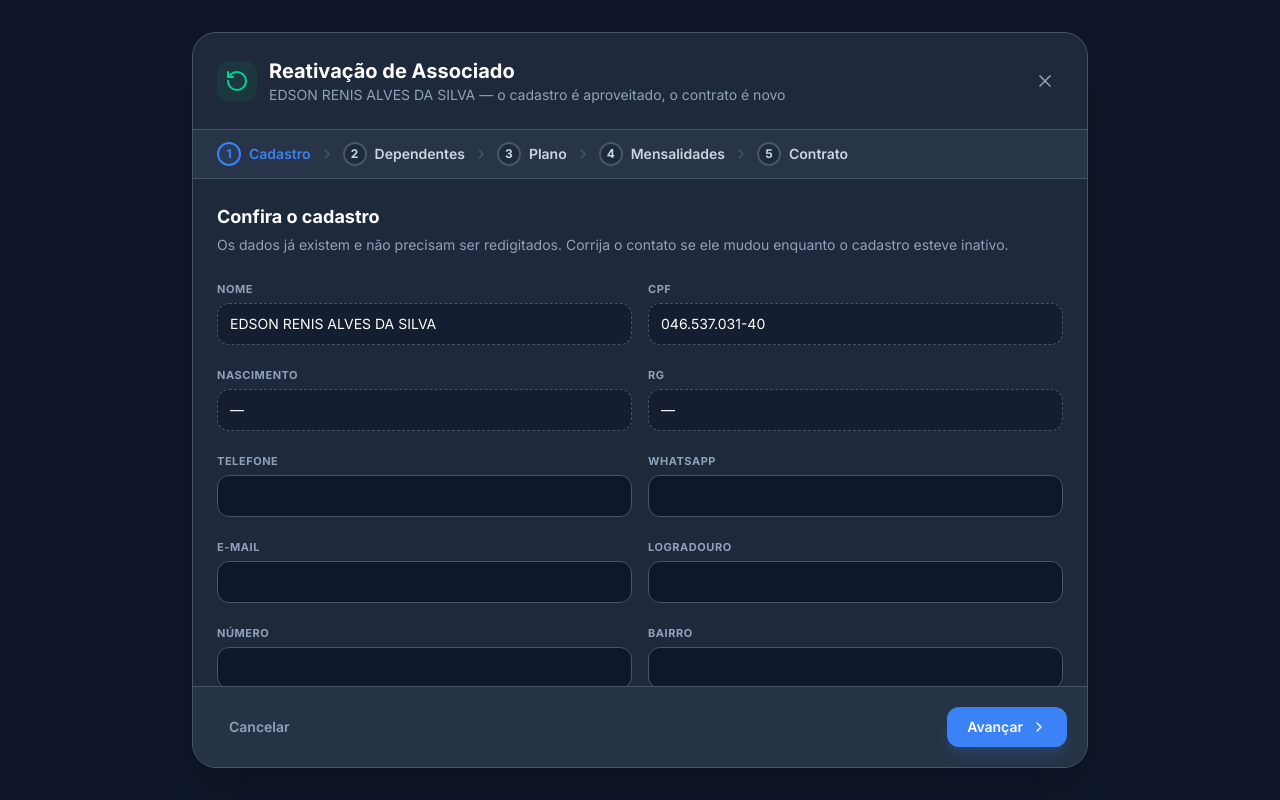
Test case: ReativacaoAssociadoWizard — etapa de dependentes › o incluído agora pode sair da lista; o já cadastrado, não
This screenshot has width=1280, height=800.
Click the button "Avançar": (1007, 727) [947,707,1067,747]
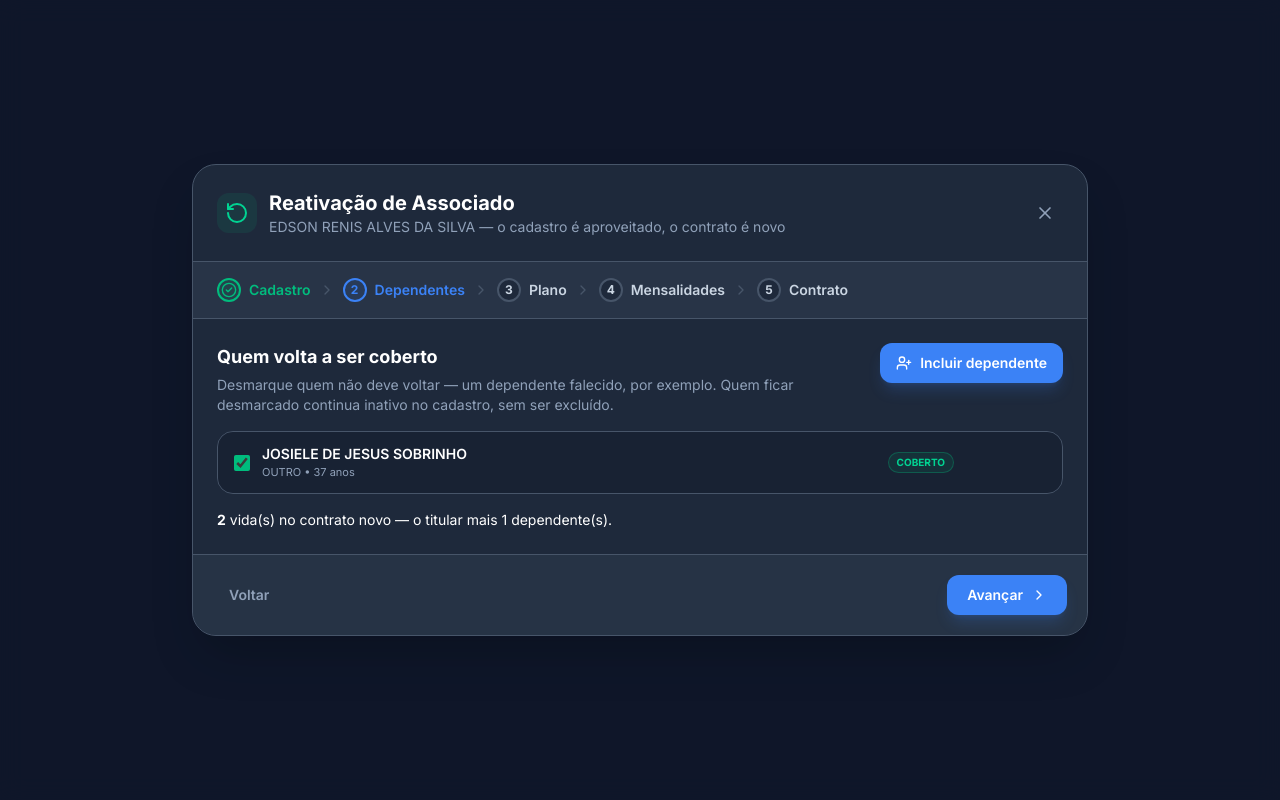
Click the button "Incluir dependente": (972, 363) [880,343,1063,383]
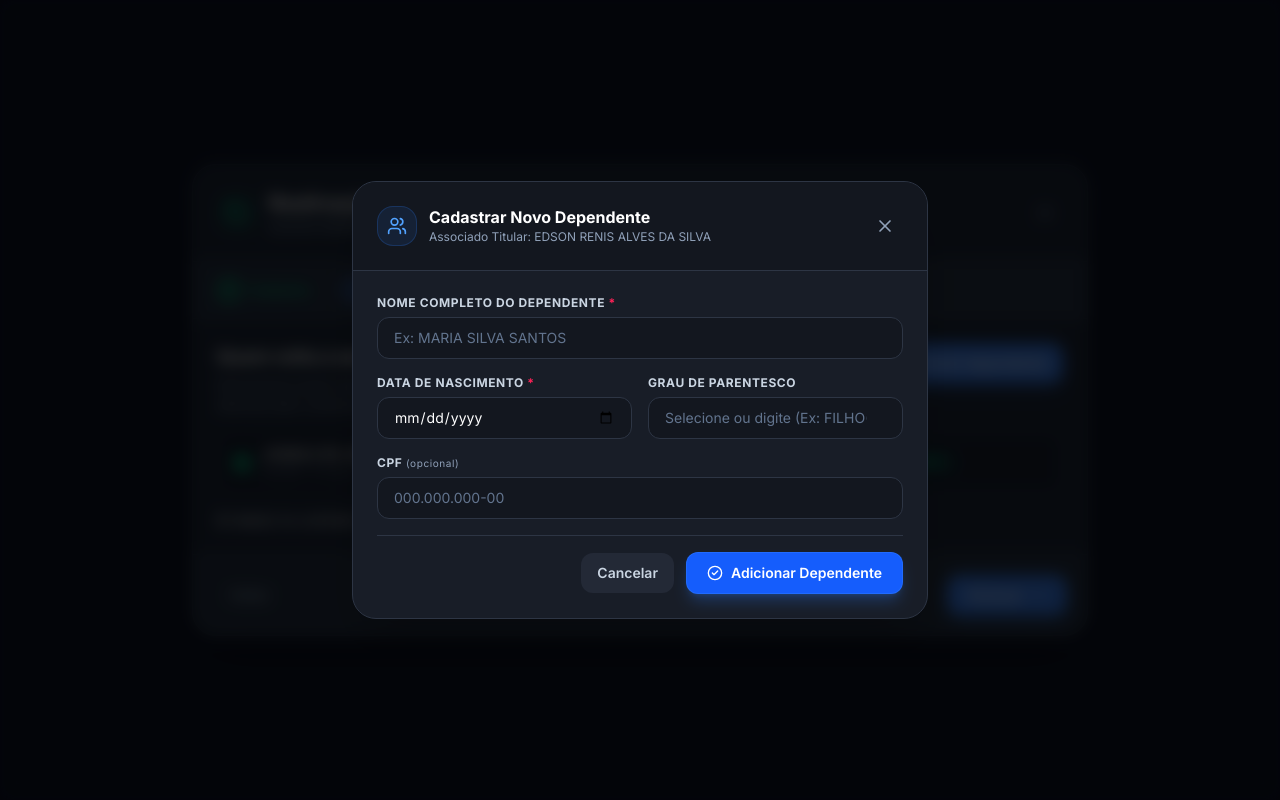
In the field with placeholder "Ex: MARIA SILVA SANTOS": (640, 338) [377,317,903,359], type "ANA BEATRIZ NETA"
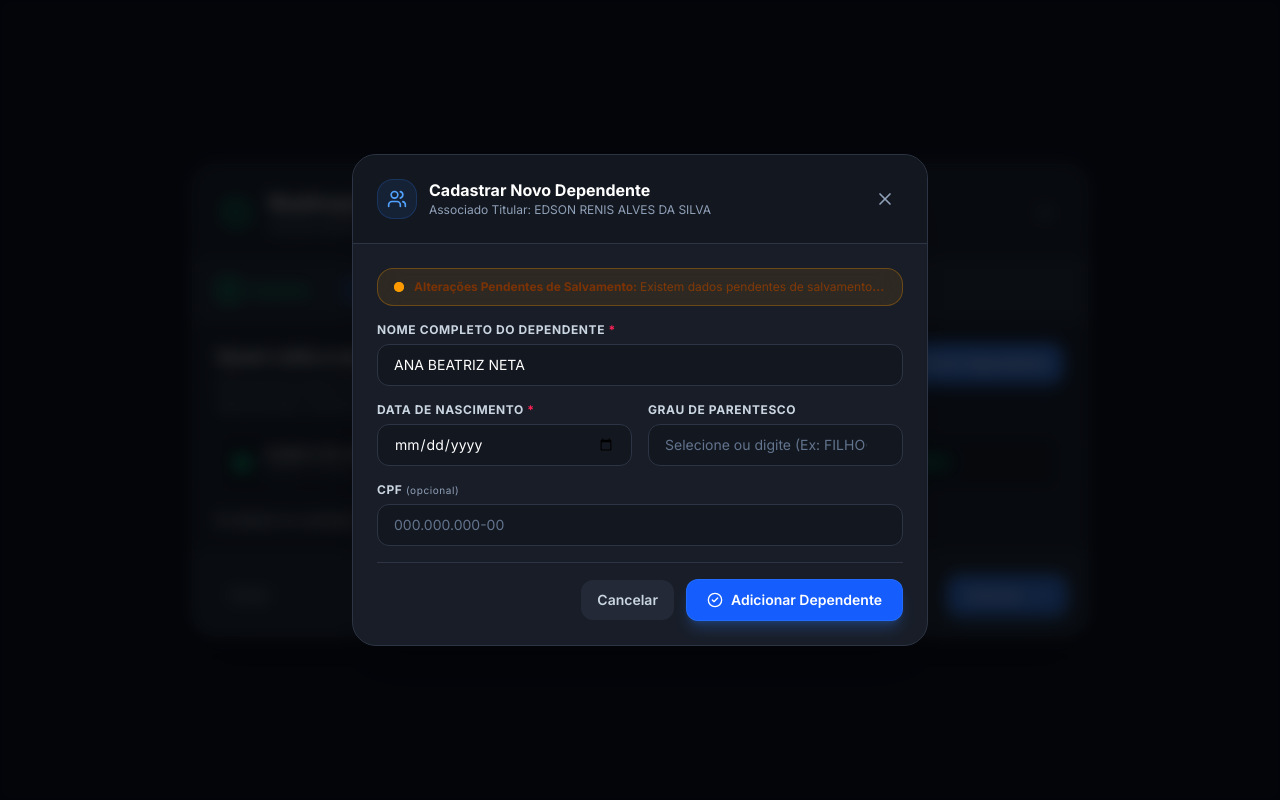
In the date field: (504, 445) [377,424,632,466], type "2018-04-02"
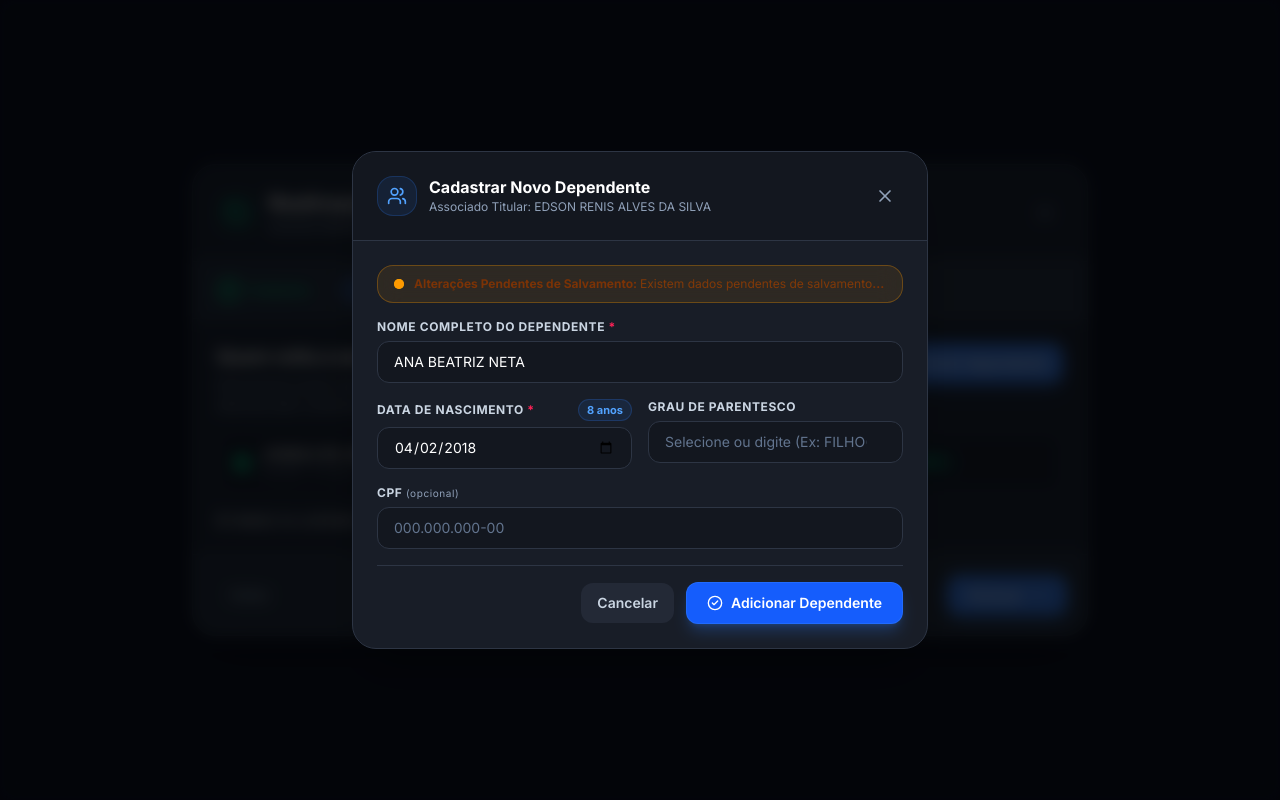
In the field with placeholder "Selecione ou digite (Ex: FILHO(A))": (776, 442) [648,421,903,463], type "NETO(A)"
Click the button "Adicionar Dependente": (794, 603) [686,582,903,624]
Wait 1200 ms
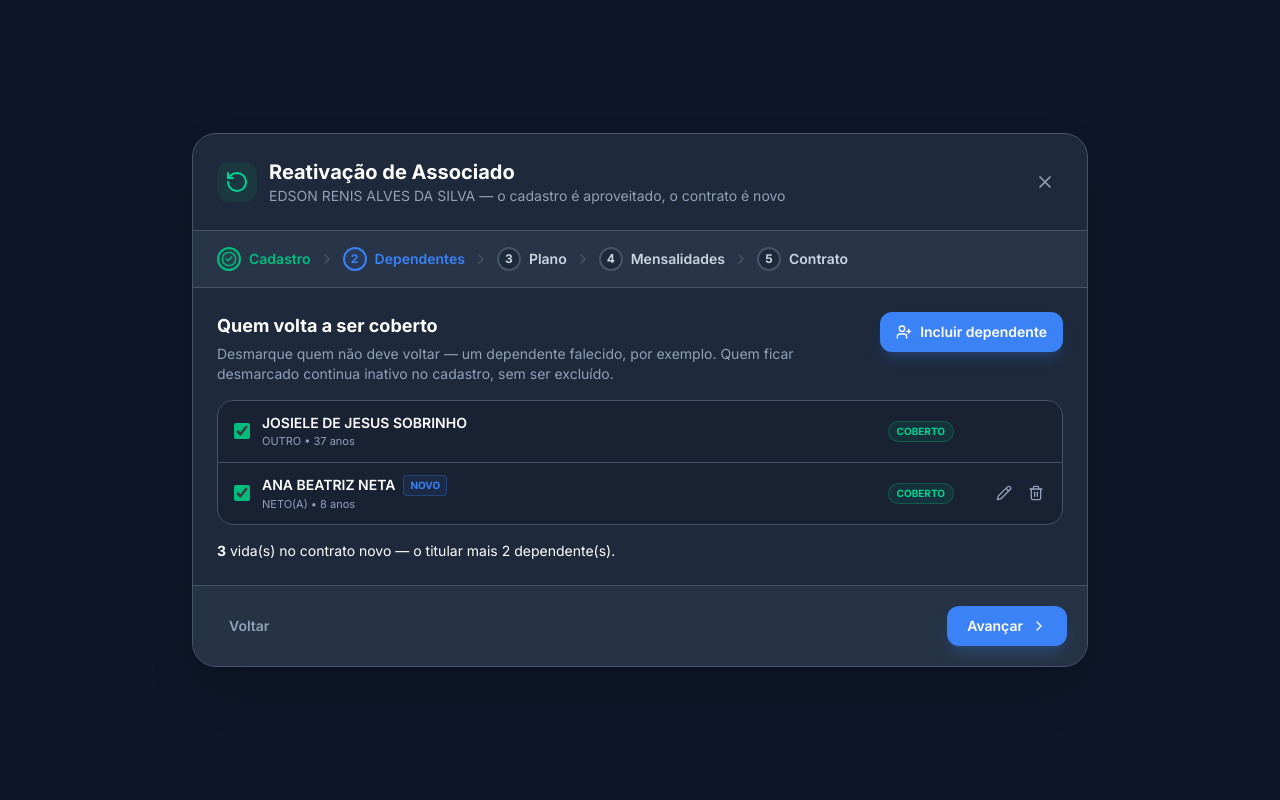
Expected: the number of buttons titled "Remover dependente incluído agora" is 1
Click the button titled "Remover dependente incluído agora": (1036, 493) [1022,479,1050,507]
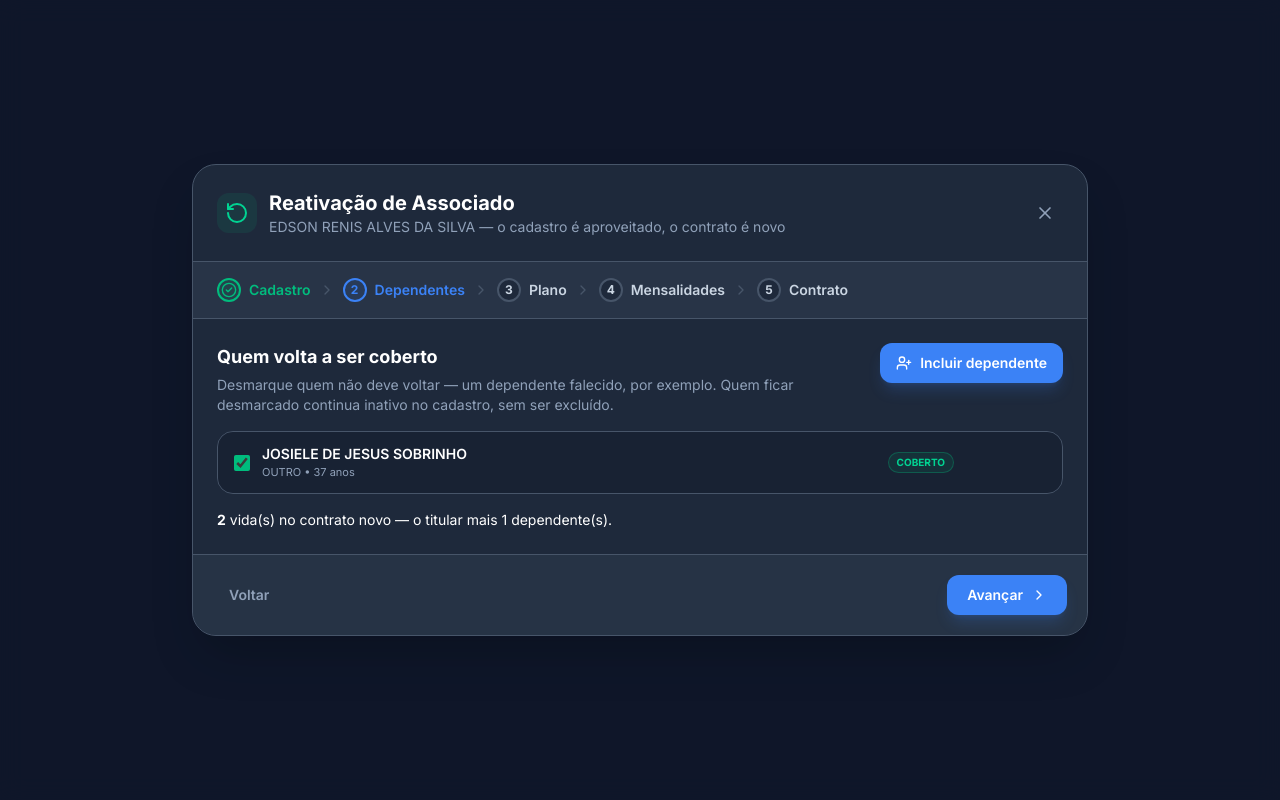
Expected: the text "ANA BEATRIZ NETA" is gone
Expected: the text "2 vida(s) no contrato novo" is shown, [217,511,612,528]
